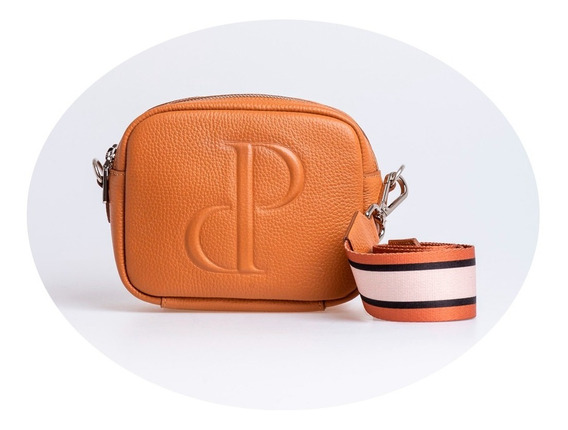cartera: (92, 89, 480, 324)
